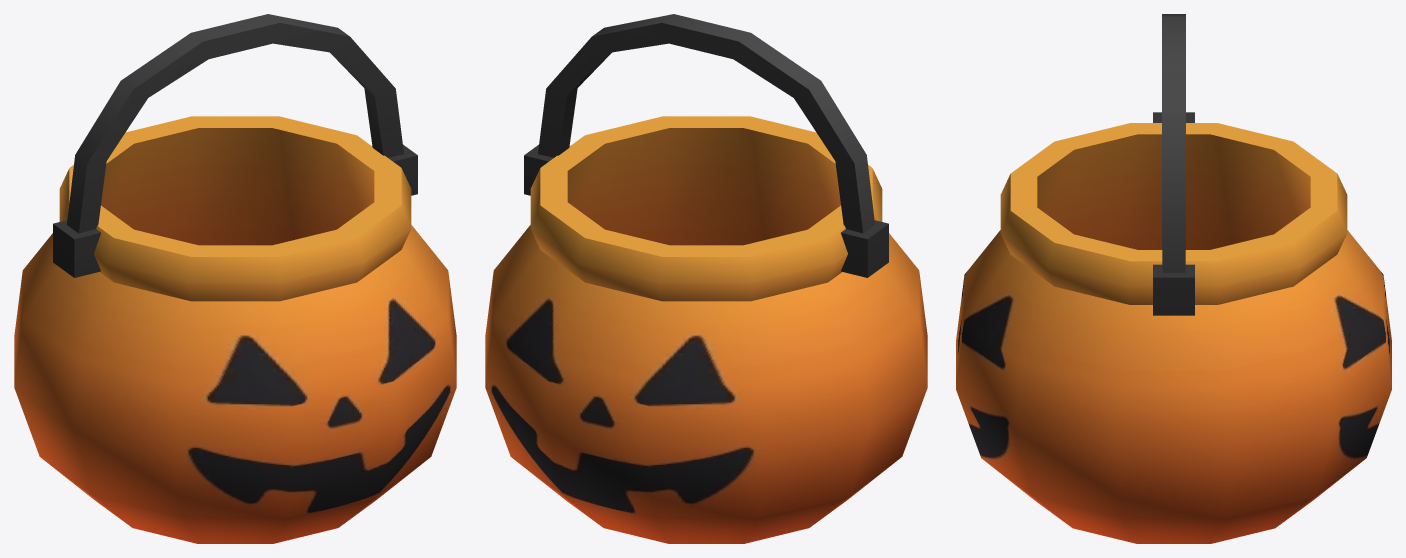
The model's file is candy_bucket_B.gltf.
The picture shows the model from 3 angles, left to right: view 1: azimuth 30°, elevation 25°; view 2: azimuth 150°, elevation 25°; view 3: azimuth 270°, elevation 25°; orthographic projection.
Parts seen in each view (by area): view 1: candy_bucket_B, candy_bucket_B_handle; view 2: candy_bucket_B, candy_bucket_B_handle; view 3: candy_bucket_B, candy_bucket_B_handle.
Boxes of the visible parts, x1,y1,x2,y2 form: candy_bucket_B: [14, 116, 456, 543]; candy_bucket_B_handle: [53, 14, 417, 277]; candy_bucket_B: [485, 116, 927, 543]; candy_bucket_B_handle: [524, 14, 888, 277]; candy_bucket_B: [956, 123, 1391, 543]; candy_bucket_B_handle: [1153, 14, 1194, 315].
Size of the model in its own units: 1 by 1.17 by 1.
Materials: 1 (1 with a texture image).
